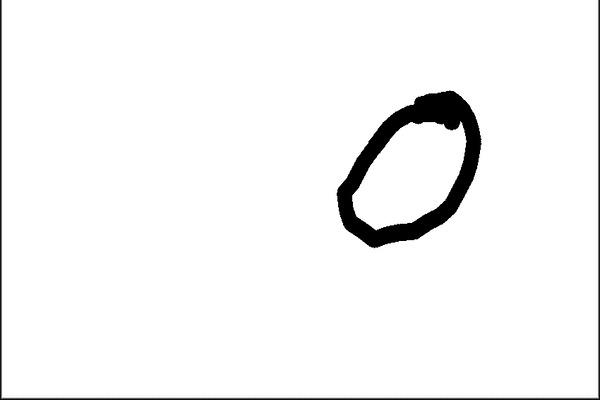O: (324, 71, 488, 258)
